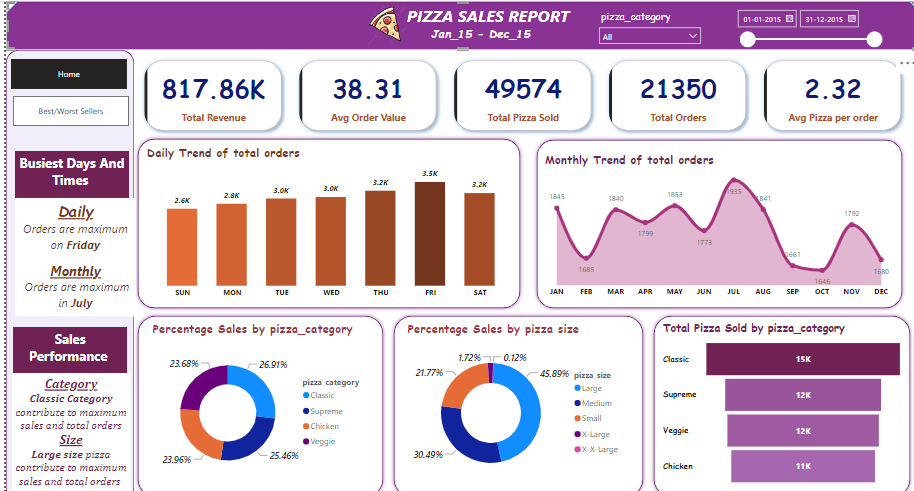

The dashboard page shown, as its layout file describes it:
{"tool":"powerbi","page":{"name":"Home","canvas":[1500,820],"ordinal":0},"visuals":[{"type":"shape","box":[0,80.4,209.9,739.6],"z":0},{"type":"cardVisual","fields":{"Data":["pizza_sales.Total Revenue","pizza_sales.Avg Order Value","pizza_sales.Total Pizza Sold","pizza_sales.Total Orders","pizza_sales.Avg Pizza per order"]},"box":[209.9,80.4,1279.2,149.2],"z":1000},{"type":"shape","box":[0,0,1500.6,80.4],"z":2000},{"type":"textbox","box":[600.2,0,380.5,64],"z":3000},{"type":"textbox","box":[692.1,34.4,259.1,45.9],"z":4000},{"type":"image","box":[578.9,0,91.8,80.4],"z":5000},{"type":"shape","box":[209.9,219.8,639.6,290.3],"z":6000},{"type":"columnChart","title":"Daily Trend of total orders","fields":{"Category":["pizza_sales.Column"],"Y":["pizza_sales.Total Orders"]},"box":[226.3,234.5,615,262.4],"z":7000},{"type":"shape","box":[864.3,221.4,611.7,288.6],"z":8000},{"type":"areaChart","title":" Monthly Trend of total orders","fields":{"Category":["pizza_sales.Month"],"Y":["pizza_sales.Total Orders"]},"box":[879,246,580.6,249.3],"z":9000},{"type":"shape","box":[209.9,510,414.9,310],"z":10000},{"type":"shape","box":[629.8,510,421.5,310],"z":11000},{"type":"shape","box":[1056.2,510,433,310],"z":12000},{"type":"donutChart","title":"Percentage Sales by pizza_category","fields":{"Y":["pizza_sales.Total Revenue"],"Category":["pizza_sales.pizza_category"]},"box":[236.2,523.2,364.1,278.8],"z":13000},{"type":"donutChart","title":"Percentage Sales by pizza size","fields":{"Y":["pizza_sales.Total Revenue"],"Category":["pizza_sales.pizza_size"]},"box":[654.4,523.2,364.1,278.8],"z":14000},{"type":"funnel","fields":{"Category":["pizza_sales.pizza_category"],"Y":["pizza_sales.Total Pizza Sold"]},"box":[1072.6,523.2,403.4,278.8],"z":15000},{"type":"textbox","box":[14.8,246,187,77.1],"z":16000},{"type":"textbox","box":[14.8,323.1,198.4,193.5],"z":17000},{"type":"textbox","box":[11.5,534.6,187,77.1],"z":18000},{"type":"textbox","box":[9.8,610.1,193.5,209.9],"z":19000},{"type":"slicer","fields":{"Values":["pizza_sales.pizza_category"]},"box":[962.7,8.2,187,72.2],"z":20000},{"type":"slicer","fields":{"Values":["pizza_sales.order_date"]},"box":[1187.4,4.9,257.5,90.2],"z":21000},{"type":"pageNavigator","box":[8.2,95.1,190.2,49.2],"z":22000},{"type":"pageNavigator","box":[11.5,155.8,190.2,49.2],"z":23000}]}

Visuals, with their boxes in screenshot pixels (x1, y1, x2, y2), scaled from the page's 1500x820 canvas onto the 914x491 screenshot:
shape: [x1=0, y1=48, x2=128, y2=490]
cardVisual - pizza_sales.Total Revenue x pizza_sales.Avg Order Value: [x1=128, y1=48, x2=907, y2=137]
shape: [x1=0, y1=0, x2=913, y2=48]
textbox: [x1=366, y1=0, x2=598, y2=38]
textbox: [x1=422, y1=21, x2=580, y2=48]
image: [x1=353, y1=0, x2=409, y2=48]
shape: [x1=128, y1=132, x2=518, y2=305]
"Daily Trend of total orders" columnChart: [x1=138, y1=140, x2=513, y2=298]
shape: [x1=527, y1=133, x2=899, y2=305]
" Monthly Trend of total orders" areaChart: [x1=536, y1=147, x2=889, y2=297]
shape: [x1=128, y1=305, x2=381, y2=490]
shape: [x1=384, y1=305, x2=641, y2=490]
shape: [x1=644, y1=305, x2=907, y2=490]
"Percentage Sales by pizza_category" donutChart: [x1=144, y1=313, x2=366, y2=480]
"Percentage Sales by pizza size" donutChart: [x1=399, y1=313, x2=621, y2=480]
funnel - pizza_sales.pizza_category x pizza_sales.Total Pizza Sold: [x1=654, y1=313, x2=899, y2=480]
textbox: [x1=9, y1=147, x2=123, y2=193]
textbox: [x1=9, y1=193, x2=130, y2=309]
textbox: [x1=7, y1=320, x2=121, y2=366]
textbox: [x1=6, y1=365, x2=124, y2=490]
slicer - pizza_sales.pizza_category: [x1=587, y1=5, x2=701, y2=48]
slicer - pizza_sales.order_date: [x1=724, y1=3, x2=880, y2=57]
pageNavigator: [x1=5, y1=57, x2=121, y2=86]
pageNavigator: [x1=7, y1=93, x2=123, y2=123]
